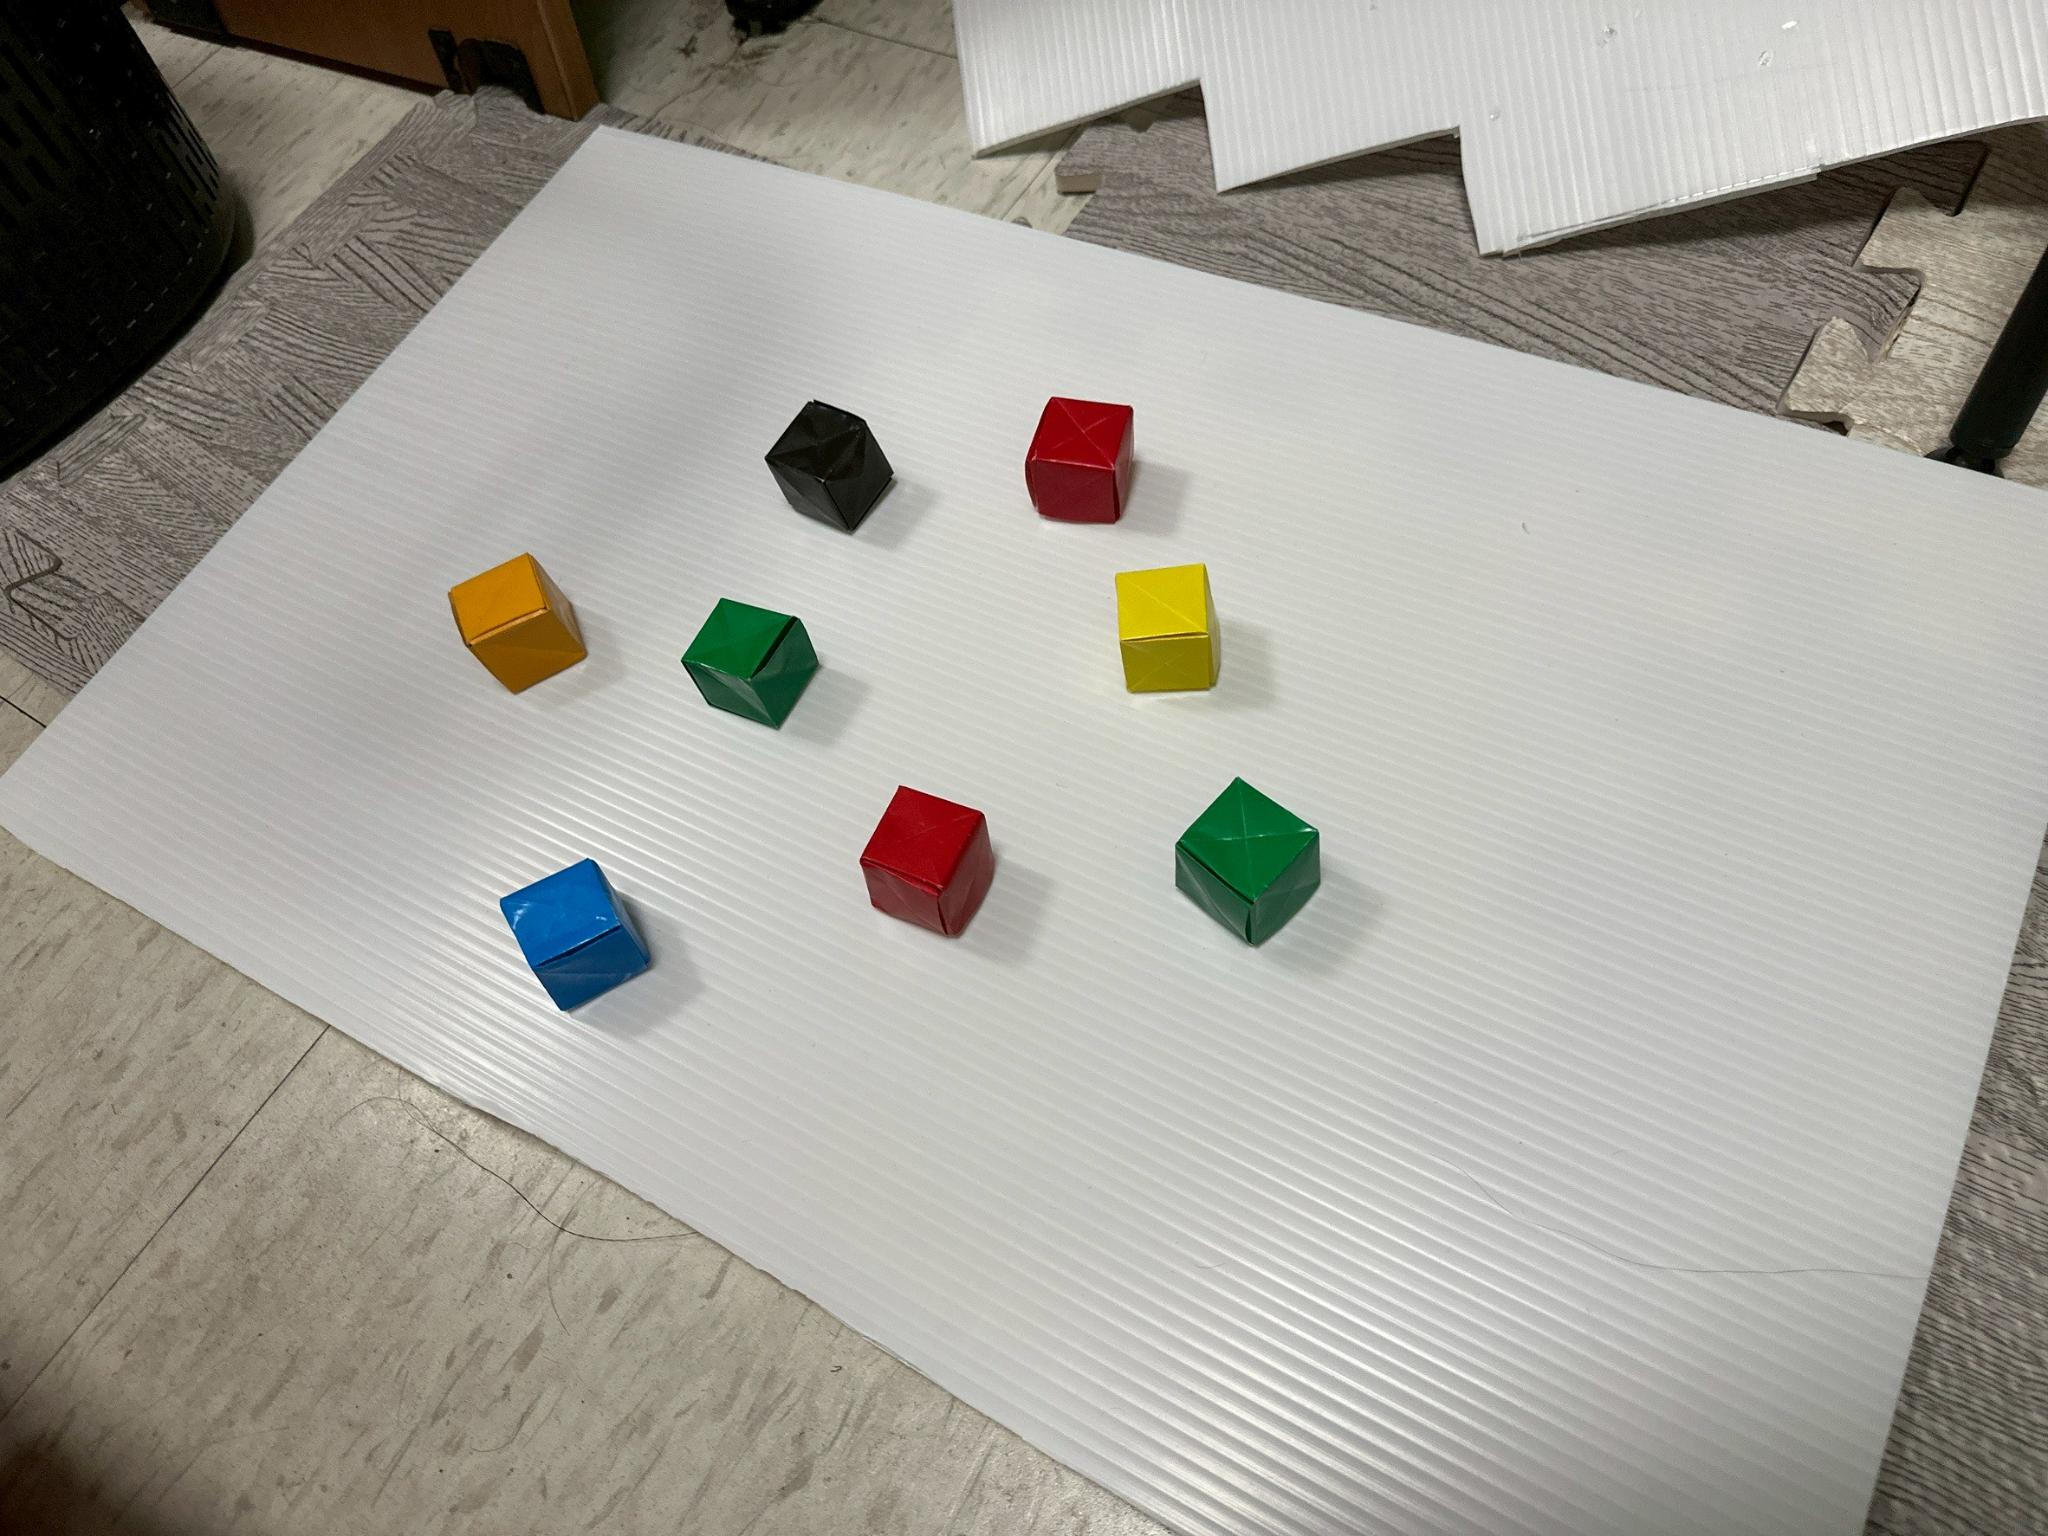base: (1174, 779, 1319, 945), (502, 860, 648, 1012), (860, 787, 995, 936), (448, 555, 585, 692), (682, 599, 819, 729), (764, 402, 892, 532), (1026, 397, 1132, 524), (1116, 565, 1218, 692)
